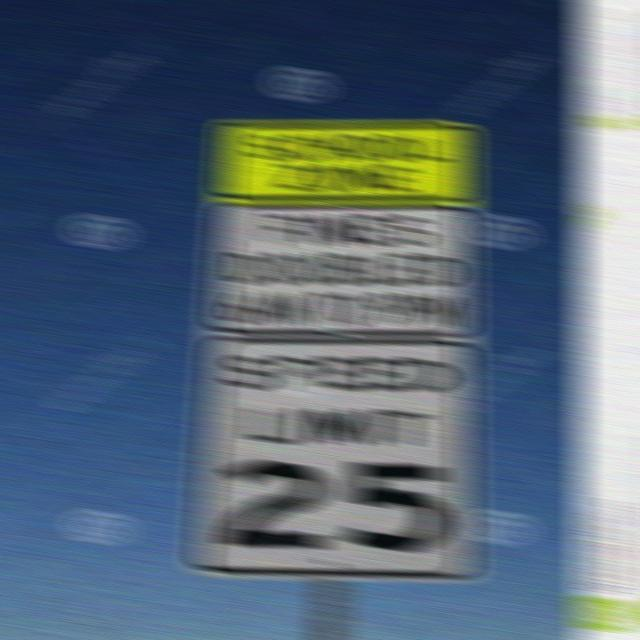speedLimit25: (206, 340, 469, 563)
